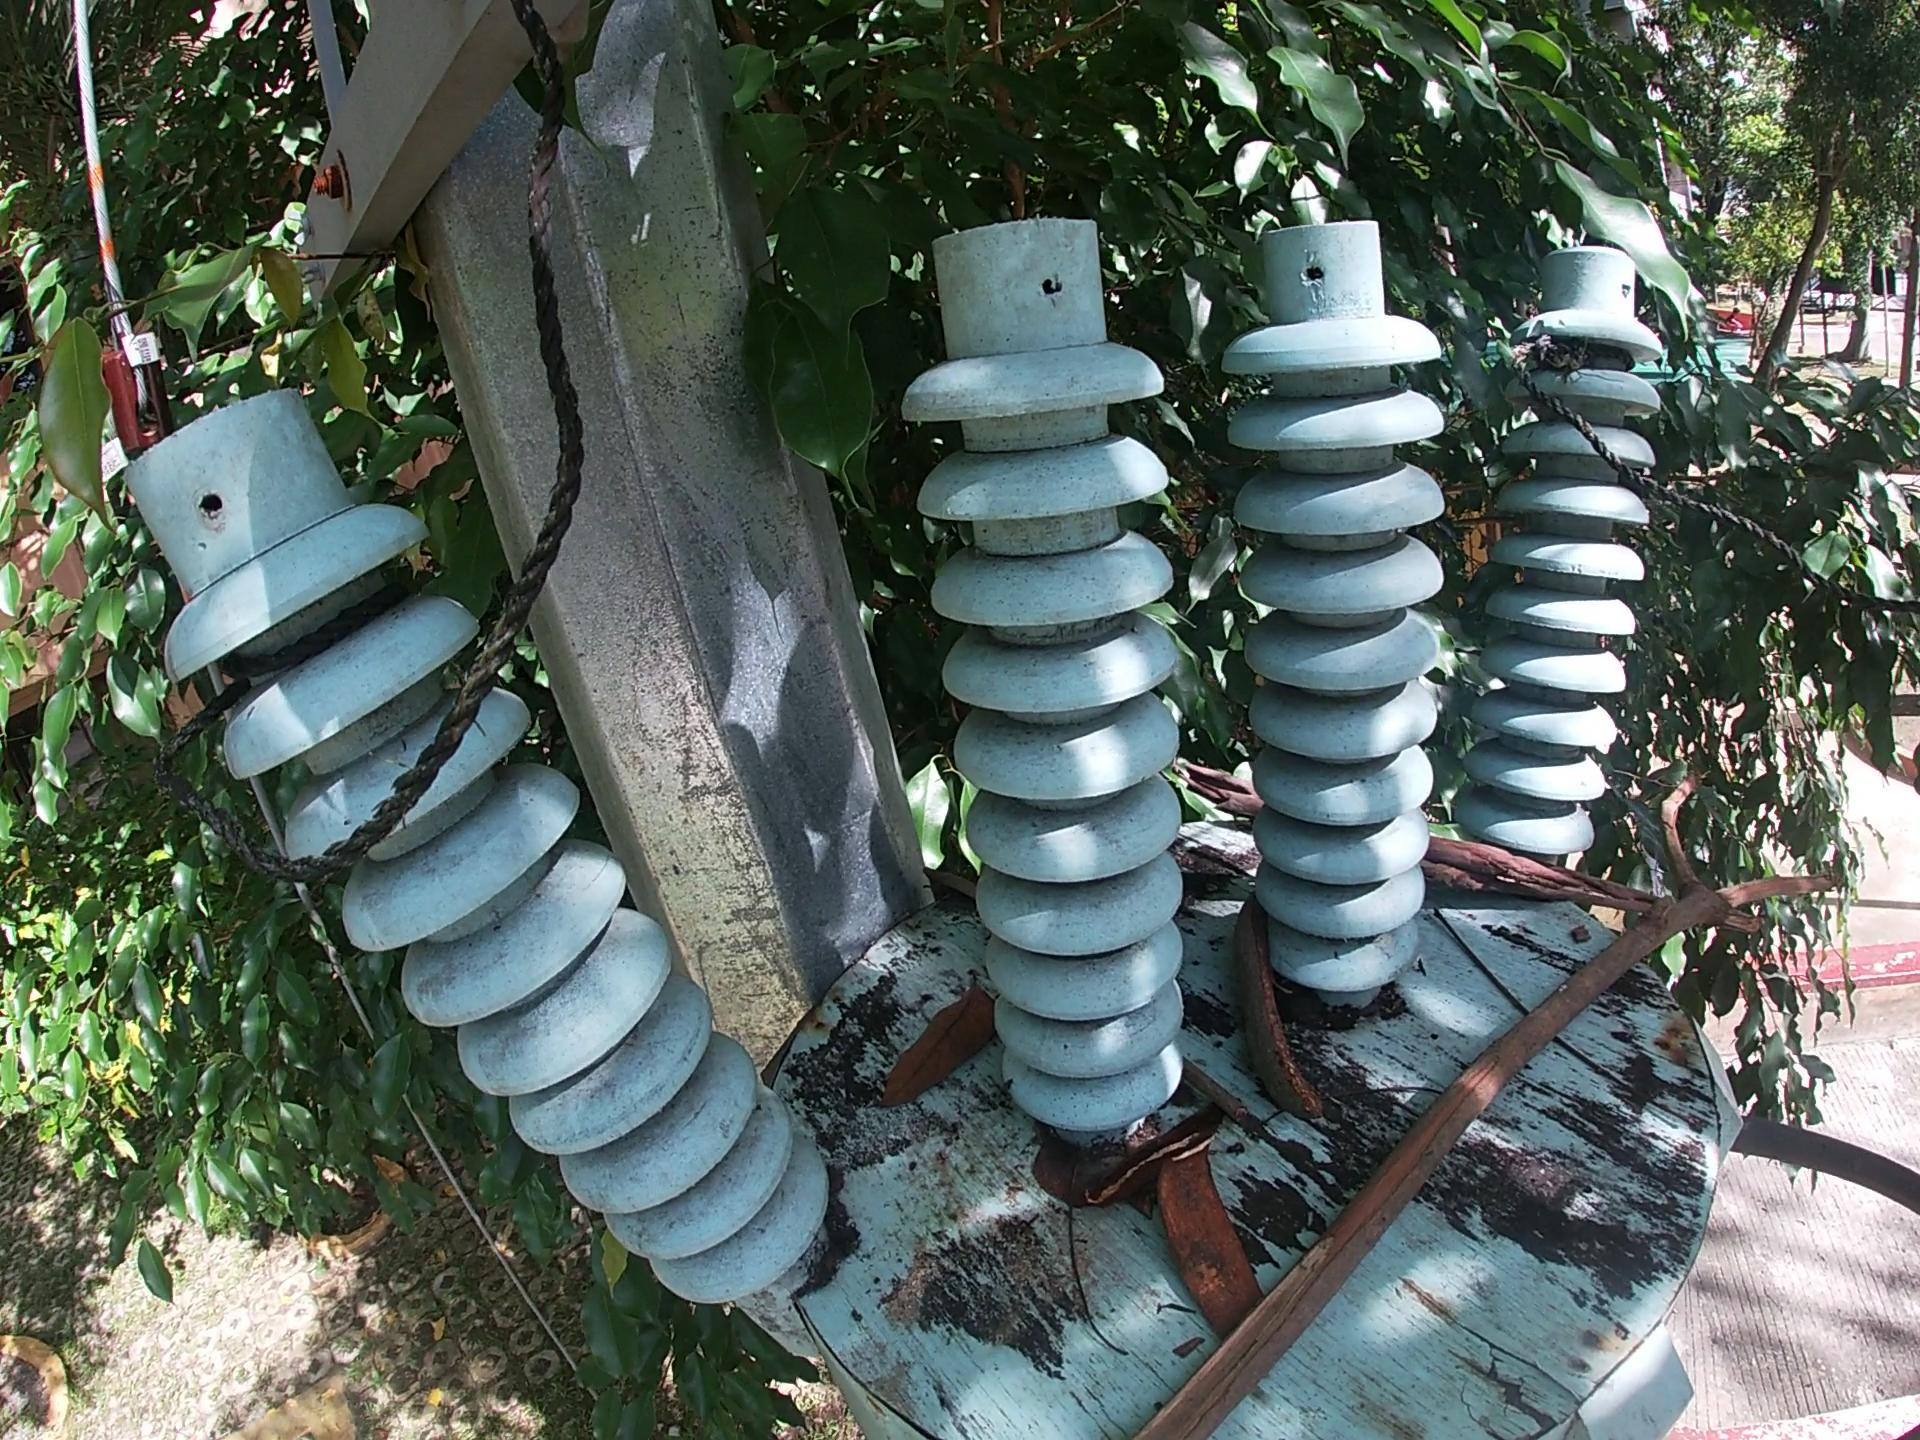leaf: (871, 973, 996, 1116), (1033, 1137, 1120, 1222)
mahogany fruit: (1234, 871, 1333, 1134), (1155, 1144, 1256, 1336)
tree branch: (1096, 761, 1876, 1437), (1441, 905, 1643, 1103), (1426, 833, 1674, 929), (1052, 1206, 1120, 1376), (1096, 1121, 1219, 1213), (1163, 755, 1259, 821), (1185, 1069, 1273, 1141), (918, 865, 975, 902)
